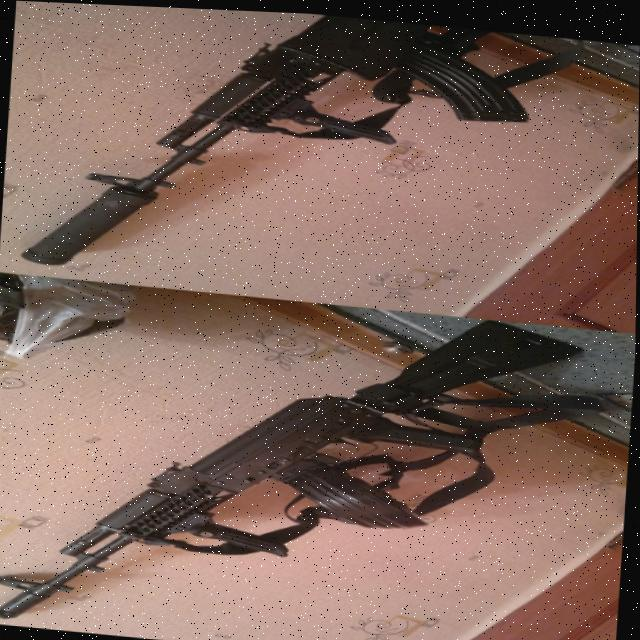firearm: (0, 270, 617, 640), (17, 1, 594, 311)
